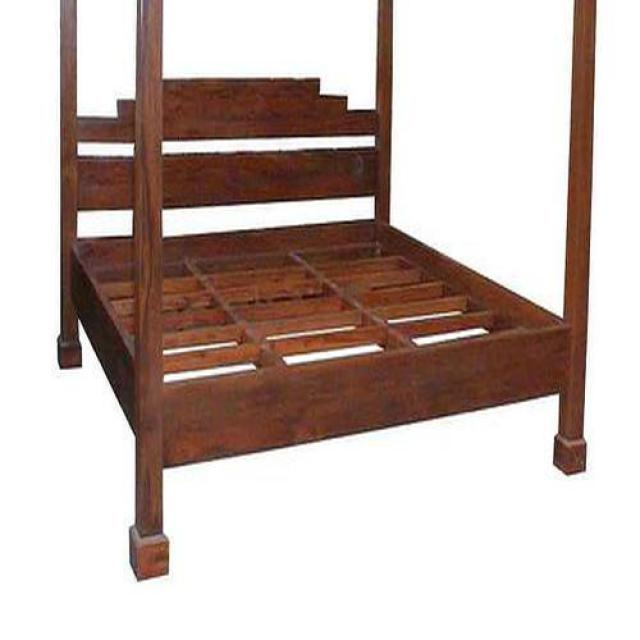bed: (58, 0, 598, 582)
